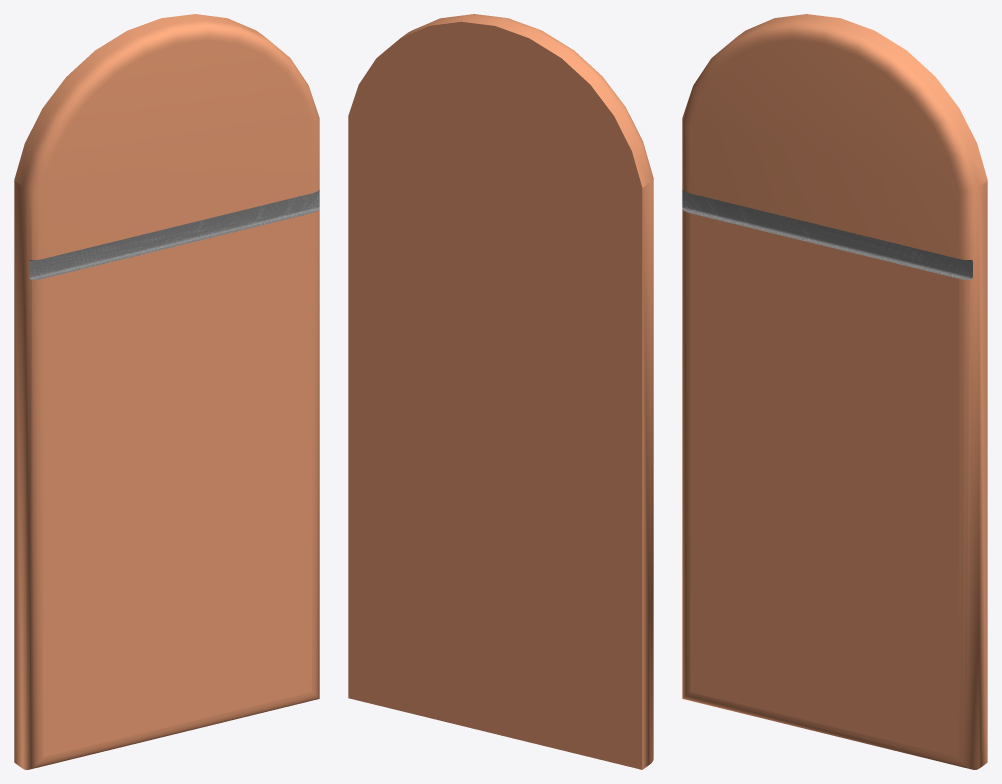
The model's file is board.dae.
The picture shows the model from 3 angles, left to right: view 1: azimuth 30°, elevation 25°; view 2: azimuth 150°, elevation 25°; view 3: azimuth 330°, elevation 25°; orthographic projection.
Visible parts, largest first — view 1: group_15.002, group_15.006, group_15.001; view 2: group_15.001, group_15.002; view 3: group_15.002, group_15.006.
Part boxes in pixels (x1,y1,x2,y2): group_15.002: (14, 14, 319, 769); group_15.006: (29, 190, 319, 279); group_15.001: (55, 439, 80, 466); group_15.001: (371, 46, 619, 740); group_15.002: (348, 14, 653, 769); group_15.002: (682, 14, 987, 769); group_15.006: (682, 190, 972, 279).
Size of the model in its own units: 0.8227 by 0.0781 by 1.89.
